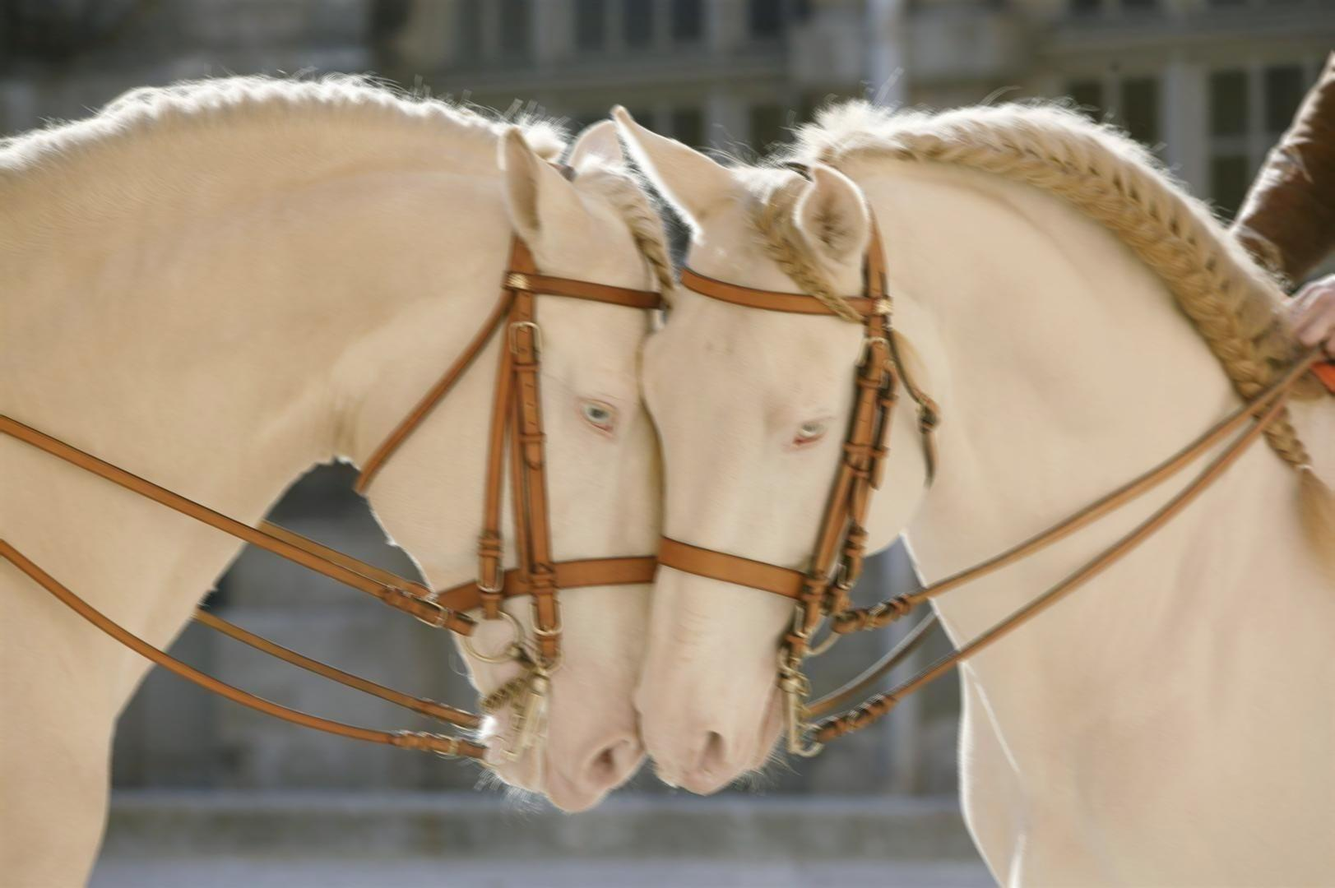horse: (609, 86, 1334, 886), (0, 66, 676, 886)
